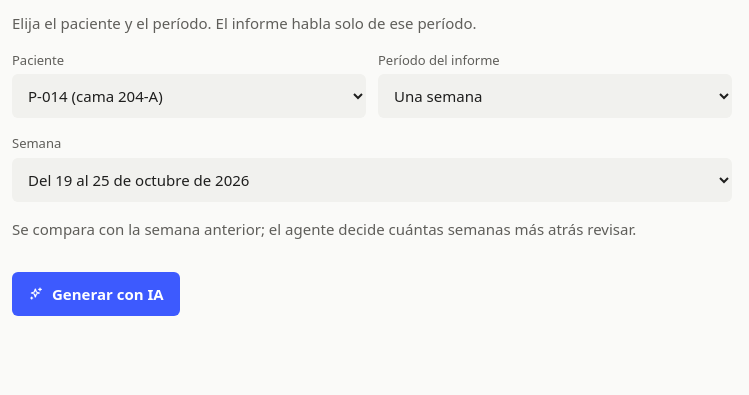
Test: ReportGenerateComponent (vInfGenerar del mockup) › un paciente sin cuatro semanas completas lo dice al pedir el mensual
This screenshot has width=749, height=395.
Select "Un mes (cuatro semanas)" in the dropdown with id "ig-tipo" at (555, 96), box x1=378 y1=74 x2=732 y2=118
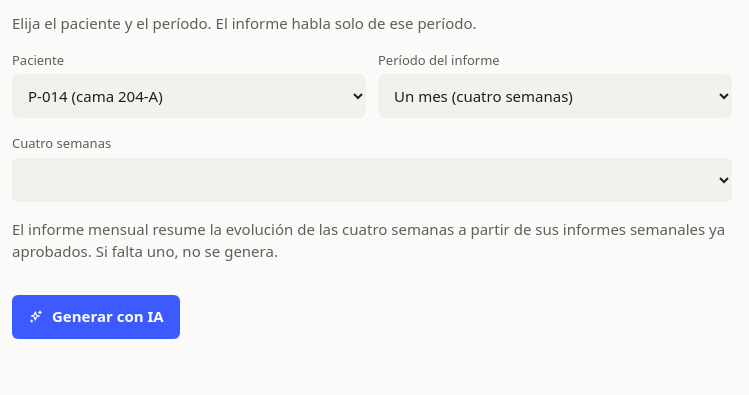
Click the button with id "ig-btn".
click(96, 316)  # box x1=12 y1=294 x2=180 y2=338
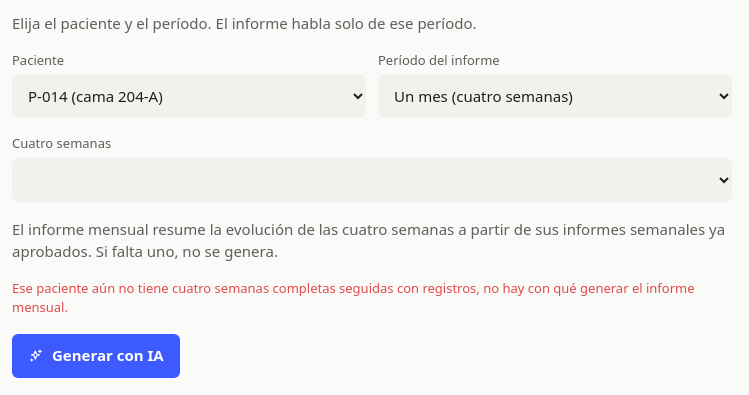
Check: the text with id "ig-err" shows "aún no tiene cuatro semanas completas seguidas", box x1=12 y1=278 x2=695 y2=316
